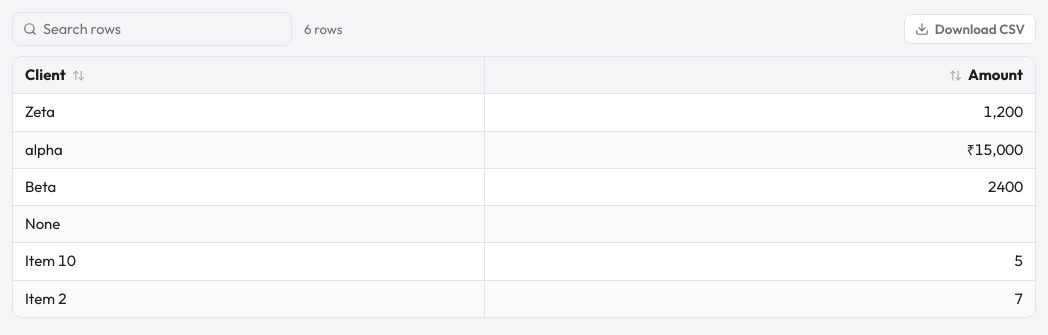
Test: SheetView sorting and search › sorts text naturally and clears the sort from the toolbar
The width and height of the screenshot is (1048, 335).
Click the button "Client". click: (45, 74)
box: [13,57,484,93]
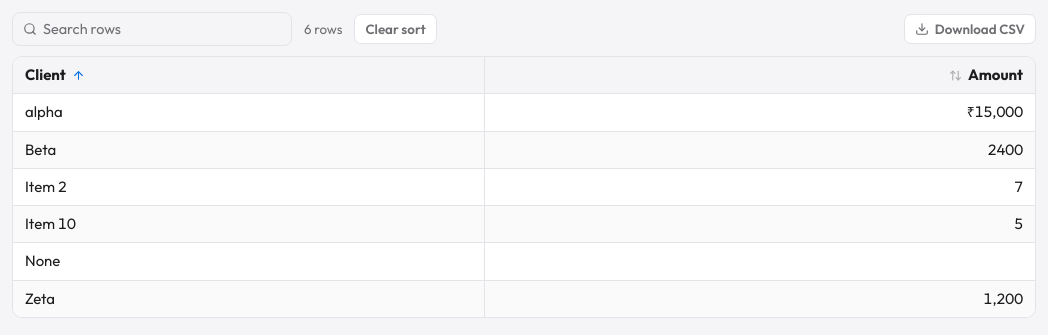
Click the button "Clear sort". click: (396, 29)
box: [354,14,437,44]
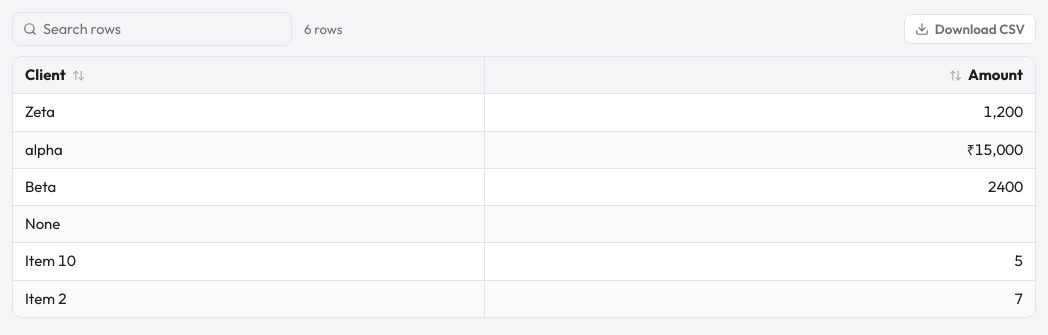
Expected: the cell "Zeta" is shown, [13,94,485,132]
Expected: the button "Clear sort" is gone
